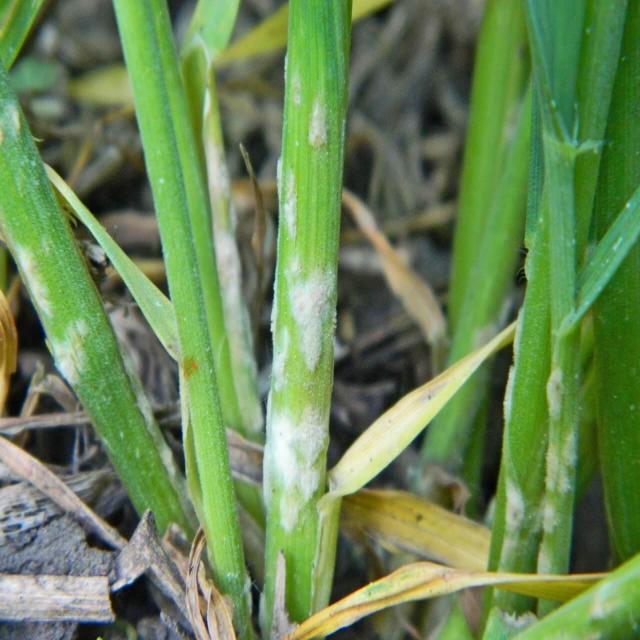wheat-powdery-mildew: (260, 35, 347, 587), (2, 90, 116, 455)
